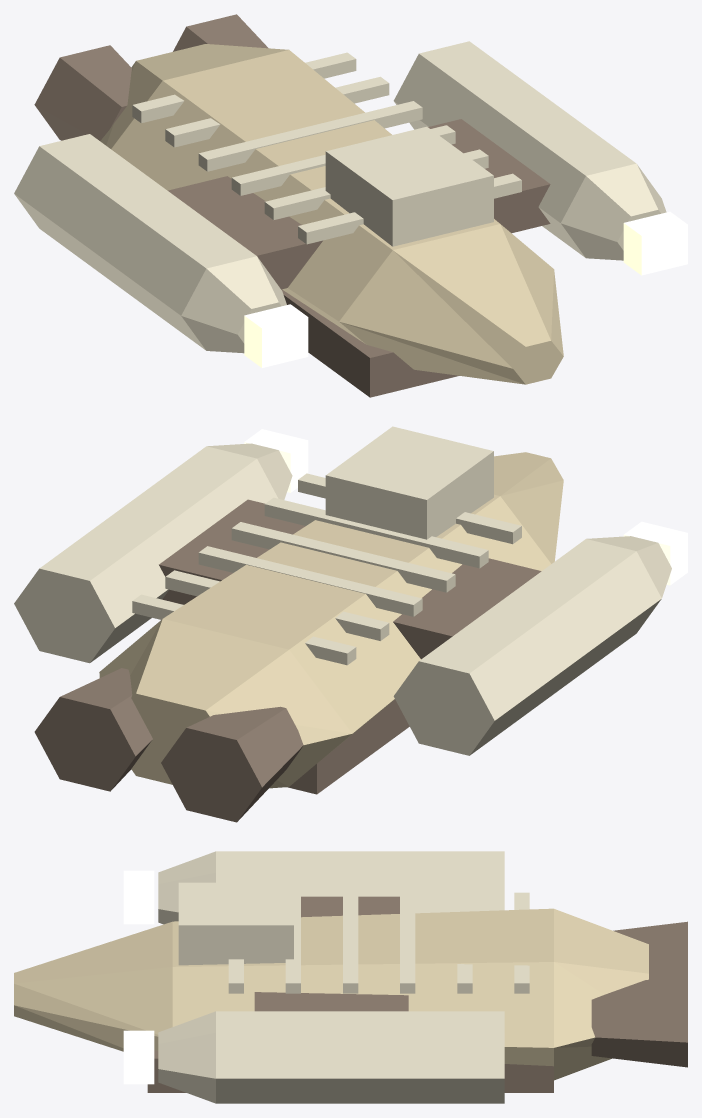
3 renders of one model, top to bottom at view 1: azimuth 30°, elevation 25°; view 2: azimuth 150°, elevation 25°; view 3: azimuth 270°, elevation 25°, orthographic. The views are drawn at different scales.
Bounding box in the file's own units: 5.38 × 1.87 × 7.56.
